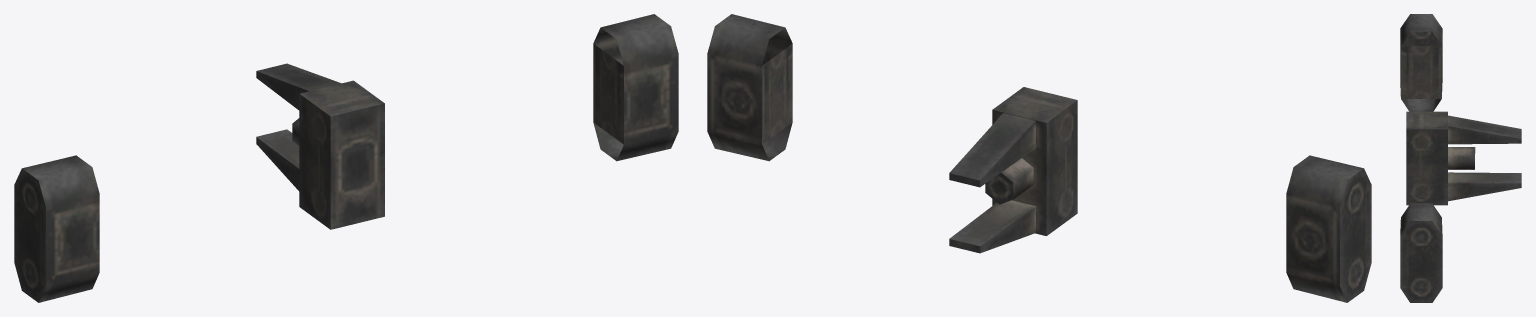
3 renders of one model, left to right at view 1: azimuth 30°, elevation 25°; view 2: azimuth 150°, elevation 25°; view 3: azimuth 270°, elevation 25°, orthographic. The views are drawn at different scales.
Parts seen in each view (by area): view 1: set_0_group_0; view 2: set_0_group_0; view 3: set_0_group_0.
Part boxes in pixels (x1=…): set_0_group_0: x1=14, y1=14, x2=678, y2=302; set_0_group_0: x1=707, y1=14, x2=1371, y2=302; set_0_group_0: x1=1400, y1=14, x2=1521, y2=302.
Bounding box in the file's own units: 0.584 × 0.108 × 0.1449.
Materials: 1 (1 with a texture image).
